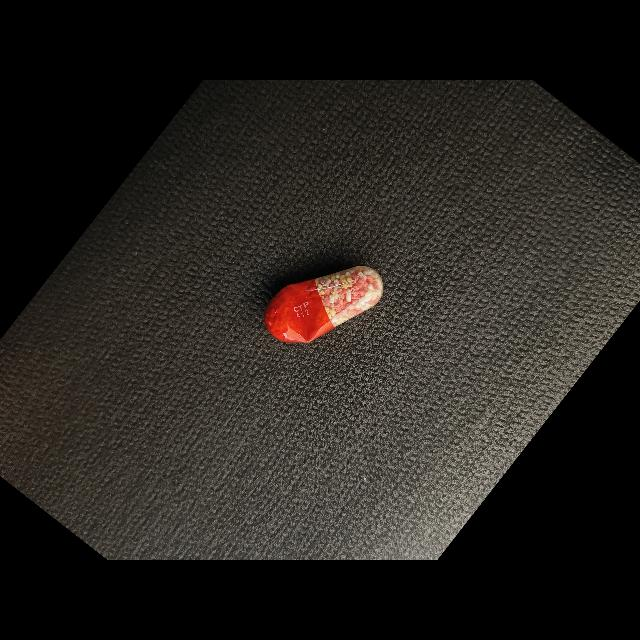Defective Capsule: (265, 266, 384, 343)
